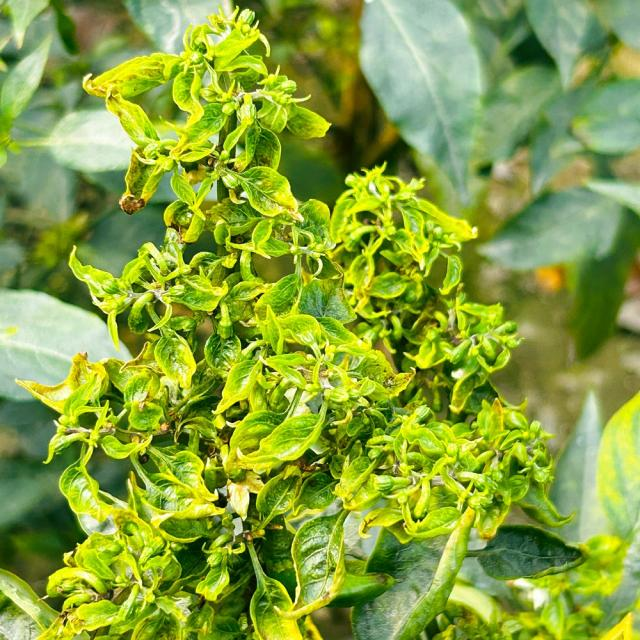Chilli_Leaf_Curl: (10, 4, 586, 638), (81, 4, 332, 240)
